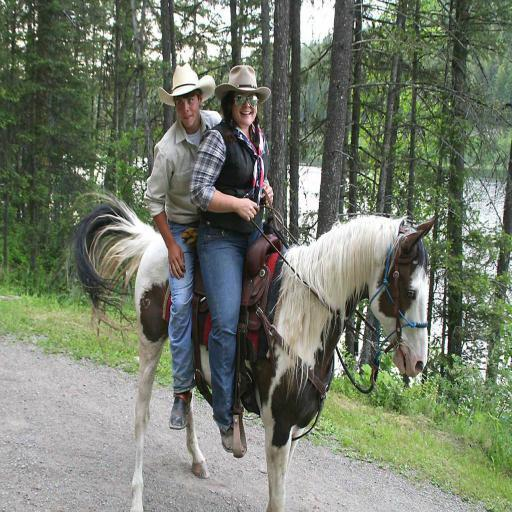horse: (63, 186, 440, 512)
